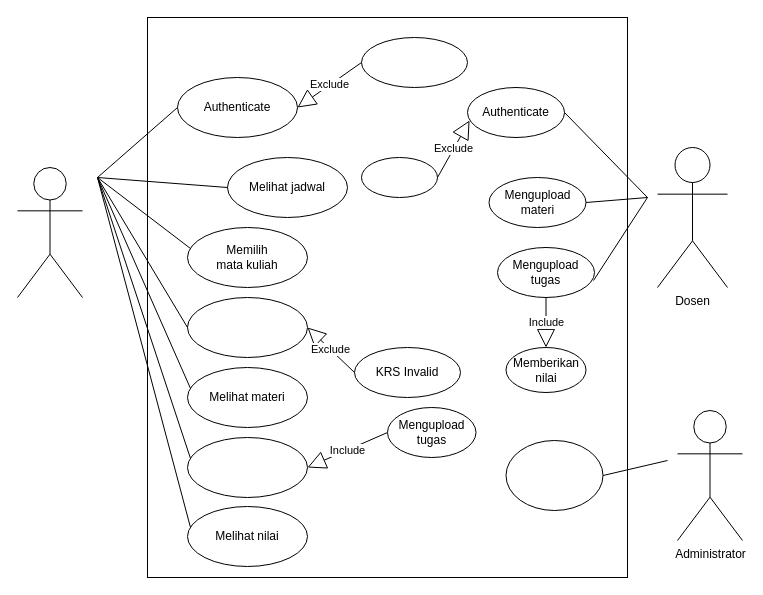
This 763x595 diagram has some shape labels left out. The centre of each missing label's shape, as x and y in pixels:
"Invalid ID" belongs at (x=399, y=177).
"Invalid username atau password" belongs at (x=414, y=62).
"Mahasiswa" belongs at (x=49, y=232).
"Melihat tugas" belongs at (x=247, y=467).
"Mengelola data akademik" belongs at (x=554, y=475).
"Mengisi KRS" belongs at (x=247, y=327).
